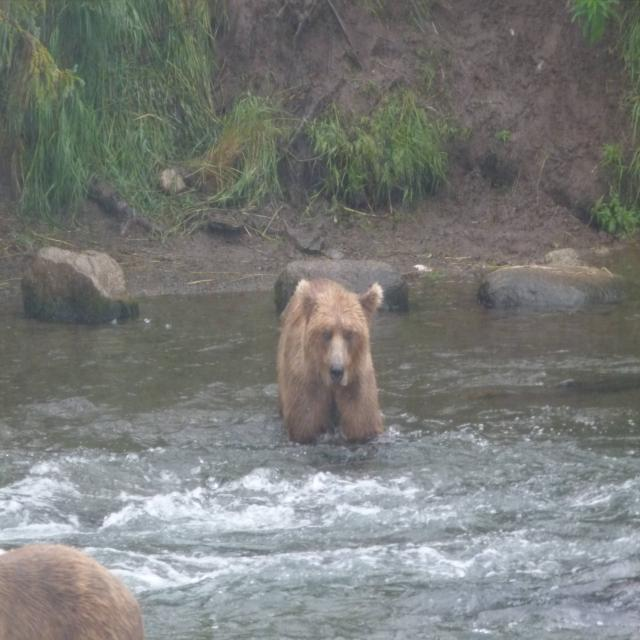bear face: (278, 277, 385, 448), (0, 540, 142, 640)
